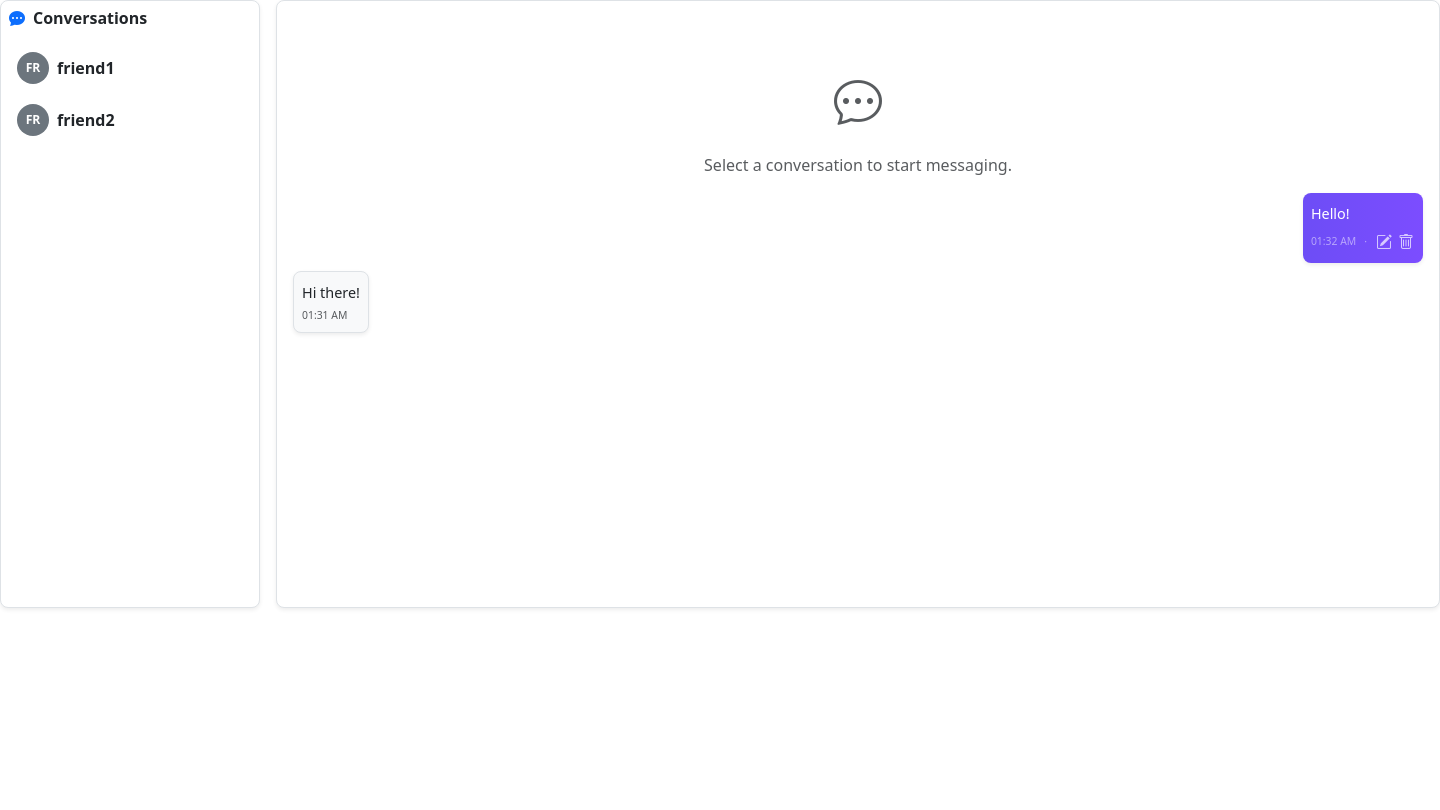
Test: MessagesPage › selects a conversation when friend is clicked
Click the text "friend1" at (86, 68), box [57,56,115,80]
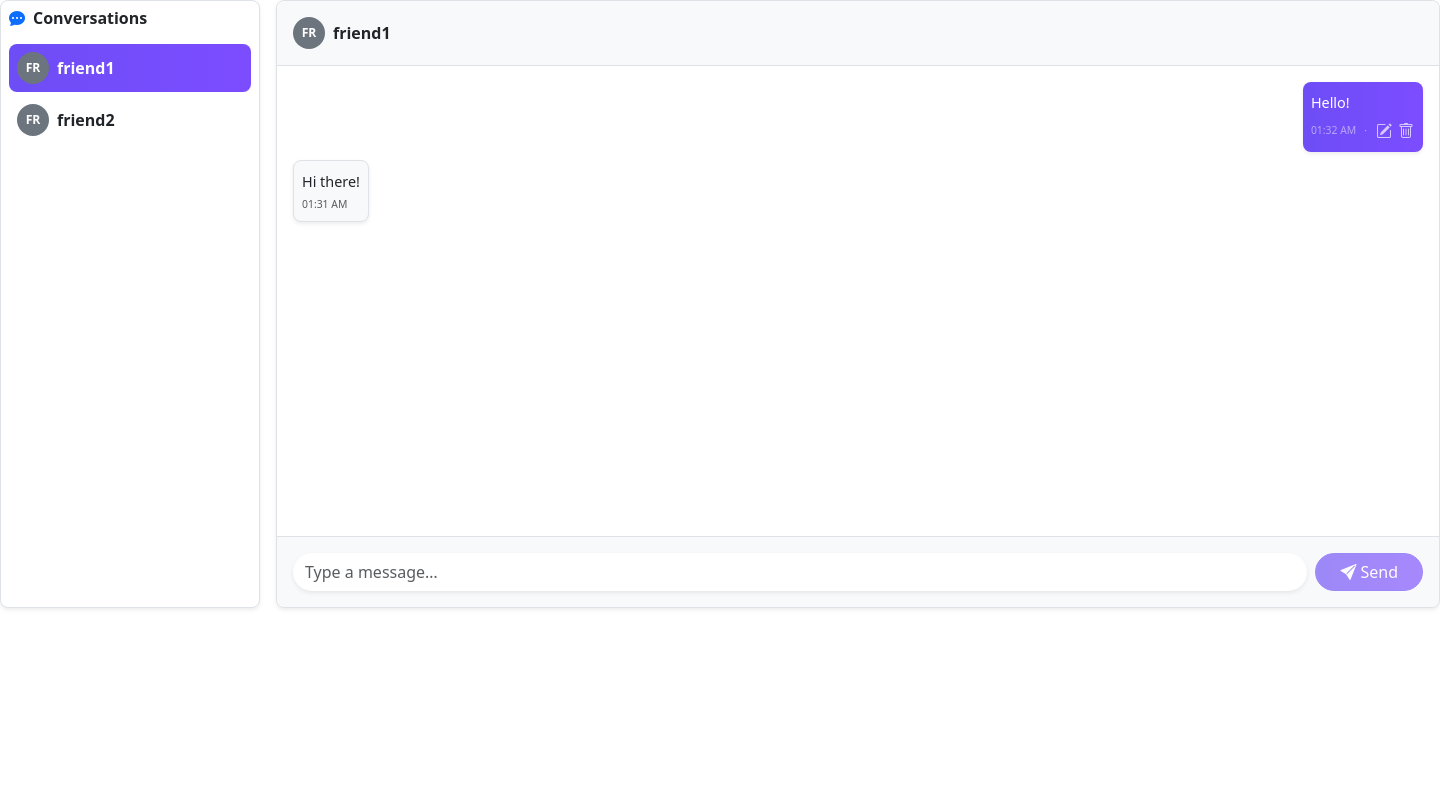
Expected: the 1st text "friend1" is shown, [333,21,391,45]
